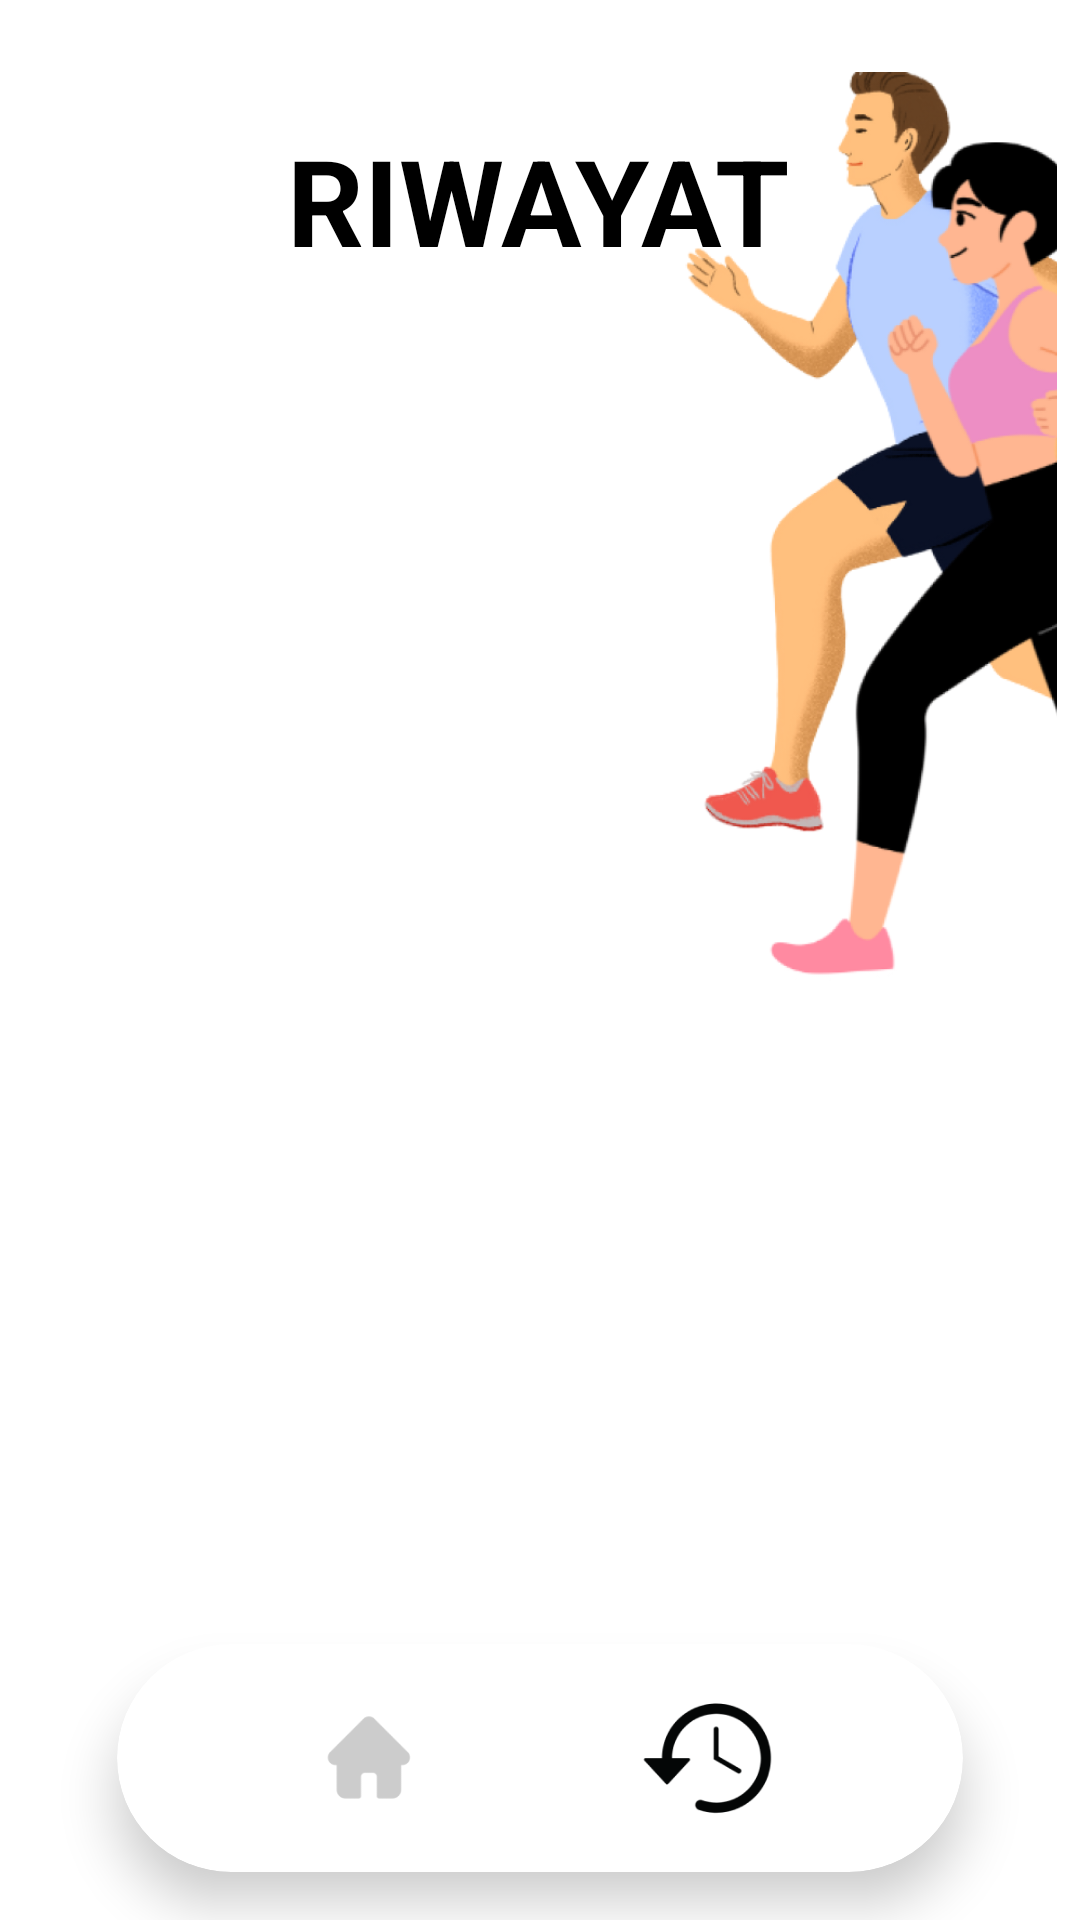

Icon bounding boxes for this 1080px×1920px phone screenshot, format bbox(x1, y1, x2, y2):
Home: bbox(328, 1716, 410, 1799)
